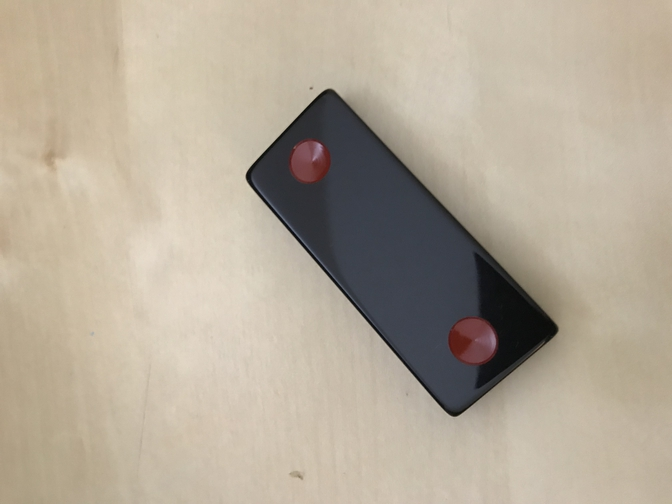earth: (244, 87, 560, 418)
